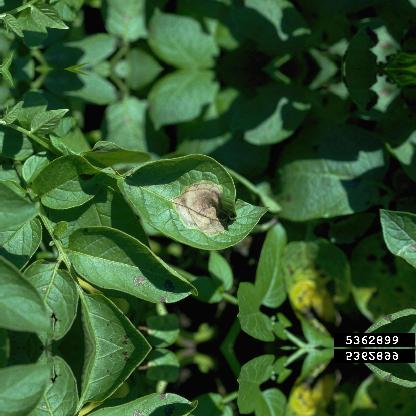Early-Blight: (120, 143, 270, 249), (66, 212, 204, 302), (274, 235, 366, 325), (73, 284, 153, 346), (73, 348, 153, 410), (274, 369, 365, 416), (66, 392, 203, 416)
